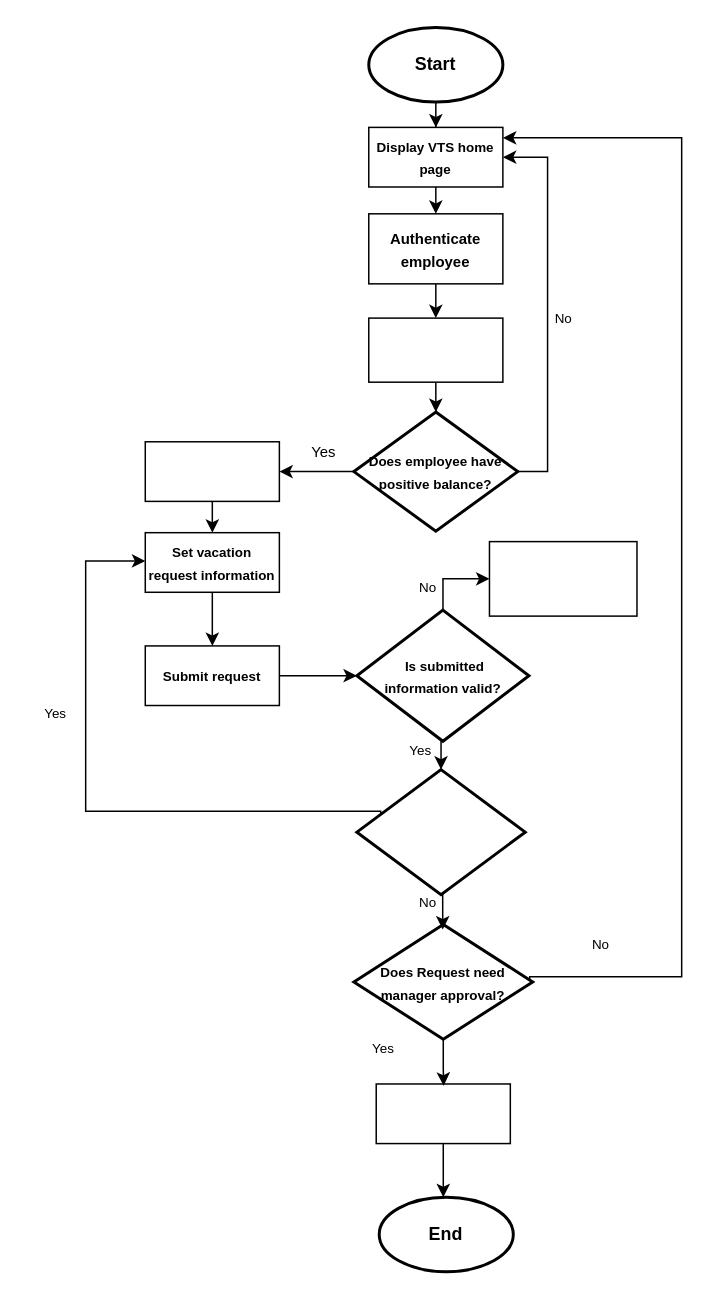
Image size: 720x1298. Some labels were removed from this diagram. Here are the shapes that lost their labels. From the top down, the centre of each, then its label:
the point at 435,349: Create new request
the point at 211,470: Allow request creation
the point at 562,578: Redisplay the Web Page with errors highlighted
the point at 440,831: Does employee want to edit the request?
the point at 442,1113: Send email to managers
